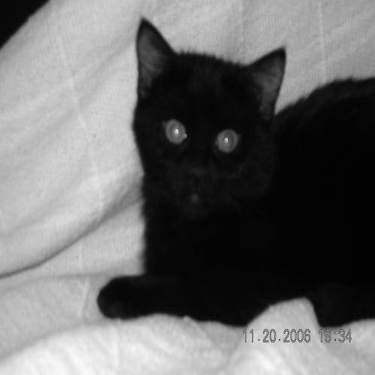cat: (77, 8, 371, 333)
